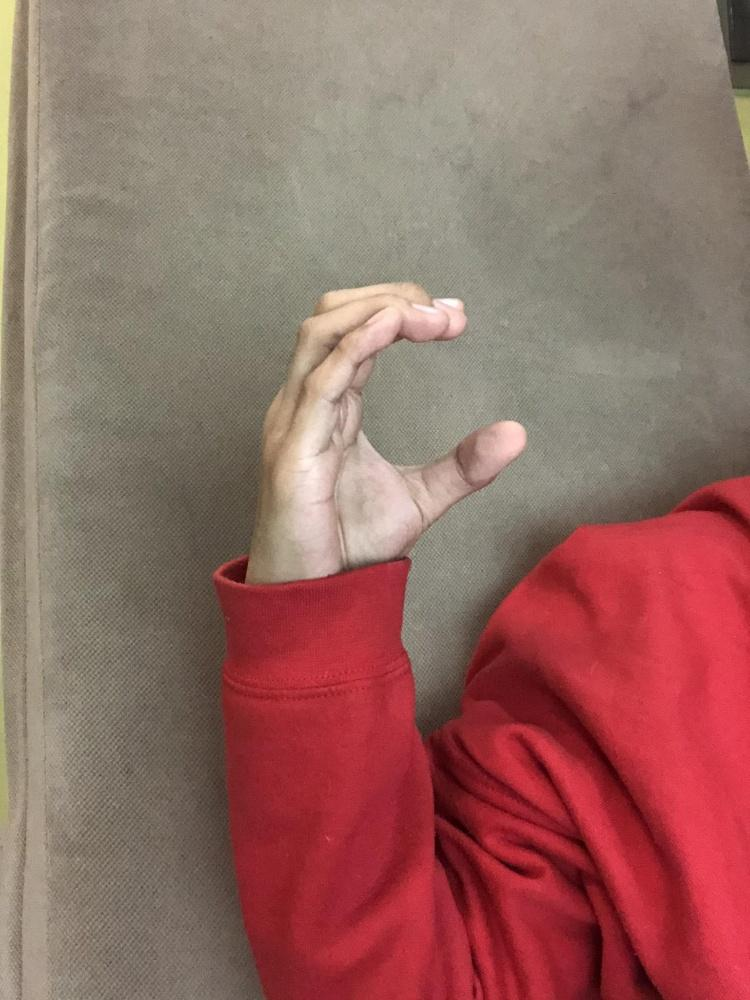c: (256, 276, 528, 582)
